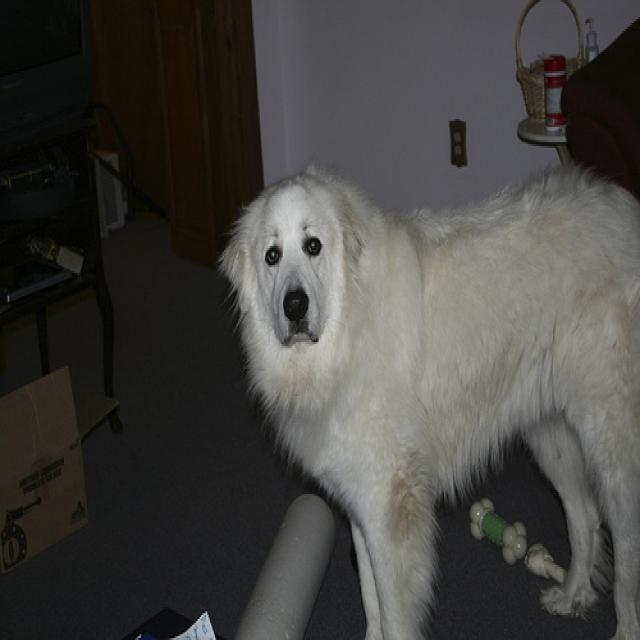dog-great_pyrenees: (210, 148, 637, 636)
